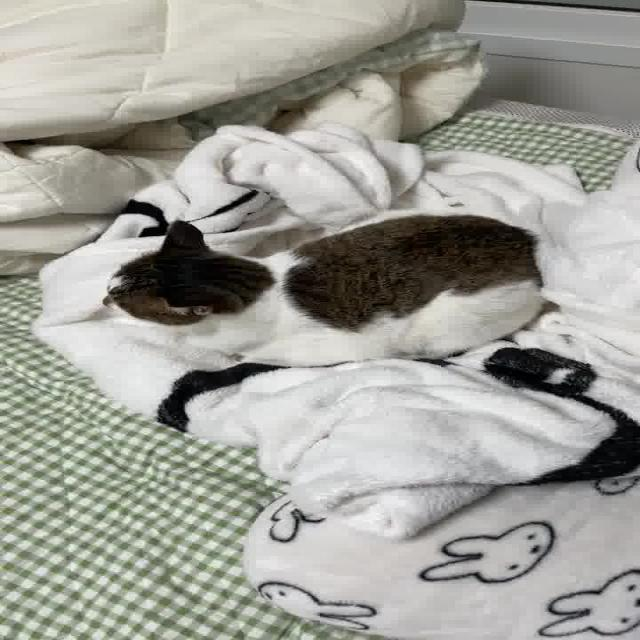cat: (85, 212, 585, 369)
